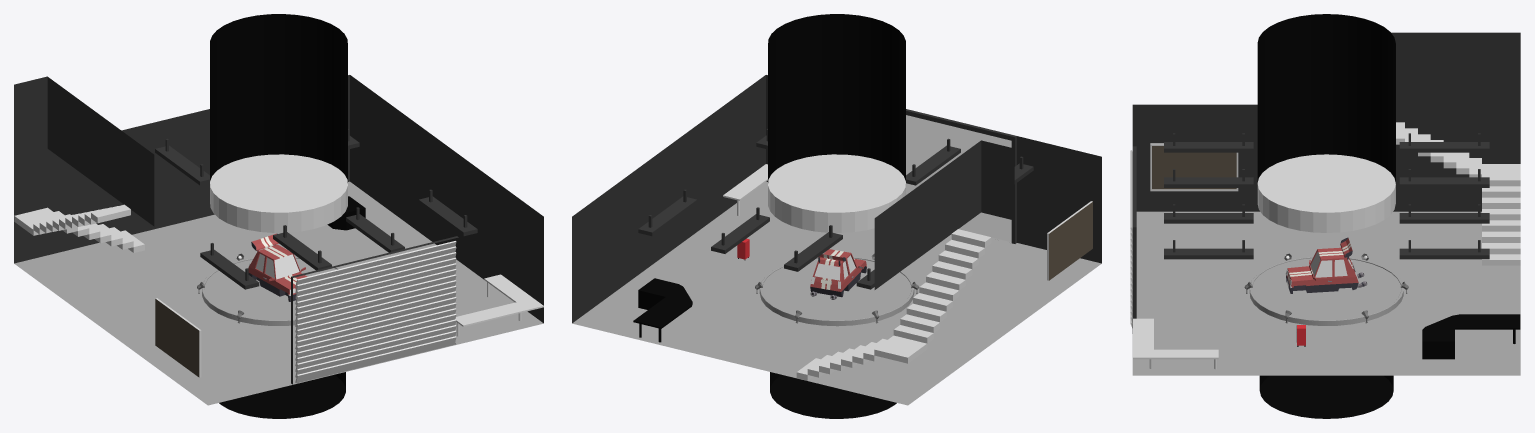
Rendered from garage2.fbx.
3 renders of one model, left to right at view 1: azimuth 30°, elevation 25°; view 2: azimuth 150°, elevation 25°; view 3: azimuth 270°, elevation 25°, orthographic.
Parts seen in each view (by area): view 1: walls, door, Cylinder.001, light.001, Plateform, diaphragm, billboard, voiture, lower stairs, workbench, Upper stairs, light (+1 smaller); view 2: walls, Cylinder.001, Plateform, Upper stairs, door, diaphragm, light, lower stairs, billboard, desk, voiture, light.001 (+1 smaller); view 3: walls, Cylinder.001, Plateform, diaphragm, light, light.001, lower stairs, billboard, voiture, desk, workbench, Upper stairs (+1 smaller).
Boxes of the visible parts, left/top/right/bottom form: walls: left=14, top=14, right=543, bottom=405; door: left=295, top=241, right=456, bottom=383; Cylinder.001: left=210, top=154, right=347, bottom=232; light.001: left=200, top=189, right=477, bottom=289; Plateform: left=202, top=256, right=340, bottom=325; diaphragm: left=202, top=294, right=345, bottom=418; billboard: left=155, top=298, right=201, bottom=377; voiture: left=248, top=244, right=307, bottom=301; lower stairs: left=14, top=207, right=144, bottom=252; workbench: left=455, top=274, right=543, bottom=336; Upper stairs: left=33, top=204, right=130, bottom=234; light: left=155, top=129, right=359, bottom=185; walls: left=572, top=14, right=1101, bottom=405; Cylinder.001: left=768, top=154, right=905, bottom=232; Plateform: left=759, top=256, right=914, bottom=326; Upper stairs: left=893, top=229, right=991, bottom=343; door: left=906, top=115, right=1011, bottom=242; diaphragm: left=762, top=298, right=909, bottom=418; light: left=638, top=189, right=874, bottom=289; lower stairs: left=796, top=335, right=927, bottom=380; billboard: left=1047, top=201, right=1092, bottom=280; desk: left=633, top=278, right=692, bottom=342; voiture: left=810, top=249, right=867, bottom=297; light.001: left=756, top=129, right=1033, bottom=185; walls: left=1132, top=14, right=1520, bottom=375; Cylinder.001: left=1257, top=154, right=1395, bottom=232; Plateform: left=1249, top=256, right=1403, bottom=325; diaphragm: left=1249, top=290, right=1402, bottom=418; light: left=1399, top=133, right=1489, bottom=259; light.001: left=1164, top=133, right=1253, bottom=259; lower stairs: left=1482, top=164, right=1520, bottom=265; billboard: left=1150, top=143, right=1238, bottom=191; voiture: left=1285, top=247, right=1358, bottom=293; desk: left=1422, top=314, right=1520, bottom=359; workbench: left=1133, top=318, right=1218, bottom=369; Upper stairs: left=1396, top=122, right=1481, bottom=177.
Size of the model in its own units: 24.11 by 24.26 by 23.84.
